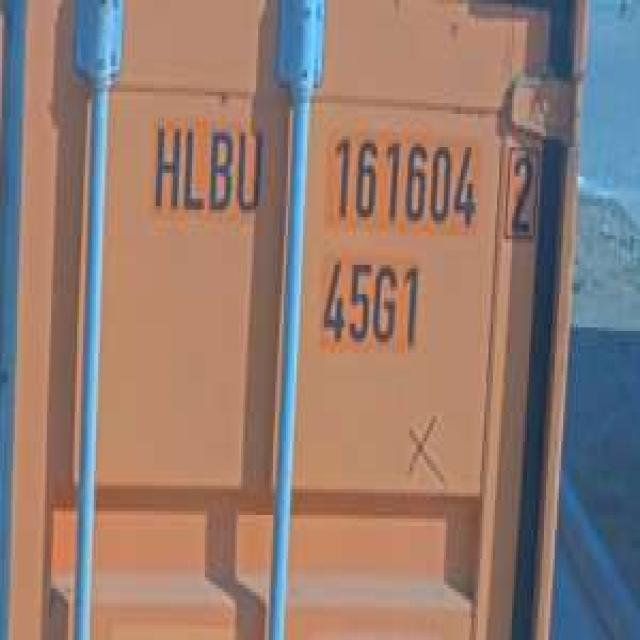dv: (499, 140, 544, 243)
owner: (147, 110, 270, 226)
serial: (328, 127, 476, 234)
size: (319, 254, 425, 358)
